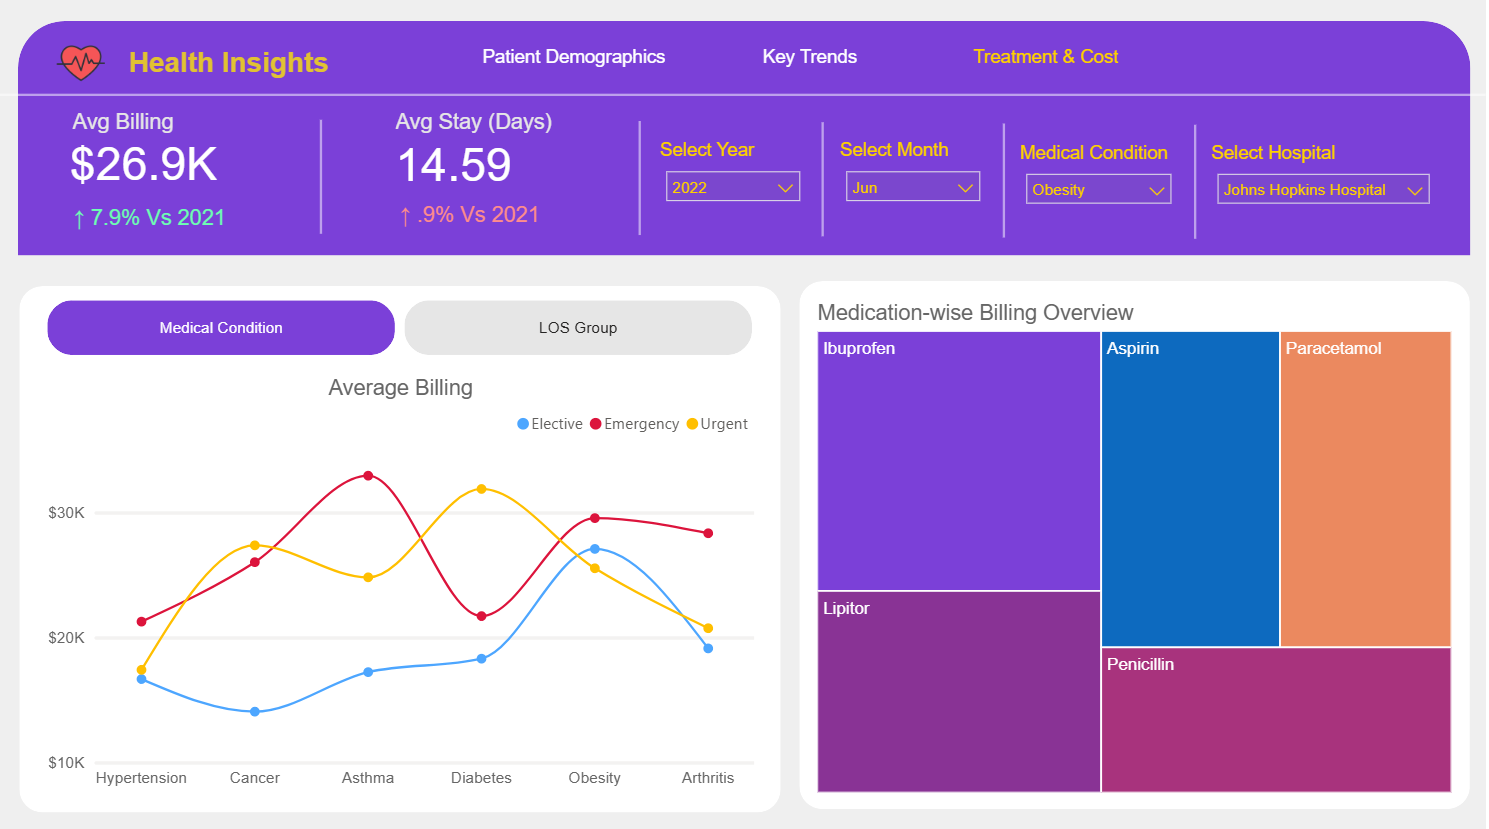

This screenshot's page, from the dashboard's own definition file:
{"tool":"powerbi","page":{"name":"Treatment & Cost","canvas":[1280,720],"ordinal":2},"visuals":[{"type":"shape","box":[17.3,21.6,1249.4,202],"z":0},{"type":"textbox","box":[107.8,37.8,201.8,40.4],"z":0,"group":"g2"},{"type":"shape","box":[26.3,91.8,239.5,121.2],"z":0,"group":"g5"},{"type":"group","id":"g1","title":"Group 4","box":[303.5,98.1,240,110.8],"z":0,"group":"g3"},{"type":"shape","box":[303.5,106.3,240,102.7],"z":0,"group":"g1"},{"type":"image","box":[38,31.7,67.3,51.4],"z":1000,"group":"g2"},{"type":"shape","box":[0,72.1,1279.7,26],"z":1000},{"type":"multiRowCard","title":"Avg Stay (Days)","fields":{"Values":["_Measure.Avg Length of Stay"]},"box":[342.5,98.1,171.7,76.5],"z":1000,"group":"g1"},{"type":"card","title":"Admitted Patients","fields":{"Values":["_Measure.Avg Billing"]},"box":[45.1,117.8,167.4,50.5],"z":1000,"group":"g5"},{"type":"group","id":"g2","title":"Group 1","box":[38,31.7,271.5,51.4],"z":2000},{"type":"multiRowCard","fields":{"Values":["_Measure.LOS YoY"]},"box":[341.6,173.2,187.6,31.8],"z":2000,"group":"g1"},{"type":"multiRowCard","fields":{"Values":["_Measure.Bill YoY"]},"box":[60.6,175.8,186.1,31.7],"z":2000,"group":"g5"},{"type":"slicer","title":"Select Year","fields":{"Values":["DimDate.Year"]},"box":[564.1,120.6,135.6,60.6],"z":3000},{"type":"slicer","title":"Select Month","fields":{"Values":["DimDate.Month Name"]},"box":[719.2,120.6,135.6,60.6],"z":4000},{"type":"slicer","title":"Medical Condition","fields":{"Values":["DimMedicalCondition.Medical Condition"]},"box":[874.3,122.3,145.5,59.9],"z":5000},{"type":"group","id":"g3","title":"Group 2","box":[303.5,98.1,240,110.8],"z":6000},{"type":"shape","box":[268.4,106.8,18,98.1],"z":7000},{"type":"shape","box":[542.5,107.8,18,98.1],"z":8000},{"type":"shape","box":[699.7,108.9,18.8,98.1],"z":9000},{"type":"shape","box":[855.6,110,18.8,98.1],"z":10000},{"type":"shape","box":[689.6,245.3,577.1,454.5],"z":11000},{"type":"group","id":"g4","title":"Group 3","box":[17.9,249.2,655,453],"z":12000},{"type":"shape","box":[17.9,249.2,655,453],"z":12000,"group":"g4"},{"type":"slicer","title":"Select Hospital","fields":{"Values":["HealthStatData.Hospital"]},"box":[1038.2,122.3,203,61.1],"z":13000},{"type":"shape","box":[1020,111.1,18.8,98.1],"z":14000},{"type":"group","id":"g5","title":"Group 5","box":[26.3,91.8,239.5,121.2],"z":15000},{"type":"lineChart","title":"Average Billing","fields":{"Category":["DimMedicalCondition.Medical Condition"],"Y":["_Measure.Avg Billing"],"Series":["HealthStatData.Admission Type"]},"box":[37.5,321.7,617.5,367.9],"z":16000},{"type":"advancedSlicerVisual","fields":{"Values":["Parameter.Parameter"]},"box":[37.5,256.8,617.5,57.7],"z":17000},{"type":"treemap","title":"Medication-wise Billing Overview","fields":{"Group":["HealthStatData.Medication"],"Values":["_Measure.Total Billing"]},"box":[699.7,256.8,555.5,432.8],"z":18000},{"type":"pageNavigator","box":[398.6,30.6,600.4,44],"z":19000},{"type":"textbox","box":[59.2,92.4,171.7,33],"z":19002,"group":"g5"}]}

Visuals, with their boxes in screenshot pixels (x1, y1, x2, y2), scaled from the page's 1280x720 canvas onto the 1489x829 screenshot:
shape: [left=20, top=25, right=1474, bottom=257]
textbox: [left=125, top=44, right=360, bottom=90]
shape: [left=31, top=106, right=309, bottom=245]
"Group 4" group: [left=353, top=113, right=632, bottom=241]
shape: [left=353, top=122, right=632, bottom=241]
image: [left=44, top=36, right=122, bottom=96]
shape: [left=0, top=83, right=1488, bottom=113]
"Avg Stay (Days)" multiRowCard: [left=398, top=113, right=598, bottom=201]
"Admitted Patients" card: [left=52, top=136, right=247, bottom=194]
"Group 1" group: [left=44, top=36, right=360, bottom=96]
multiRowCard - _Measure.LOS YoY: [left=397, top=199, right=616, bottom=236]
multiRowCard - _Measure.Bill YoY: [left=70, top=202, right=287, bottom=239]
"Select Year" slicer: [left=656, top=139, right=814, bottom=209]
"Select Month" slicer: [left=837, top=139, right=994, bottom=209]
"Medical Condition" slicer: [left=1017, top=141, right=1186, bottom=210]
"Group 2" group: [left=353, top=113, right=632, bottom=241]
shape: [left=312, top=123, right=333, bottom=236]
shape: [left=631, top=124, right=652, bottom=237]
shape: [left=814, top=125, right=836, bottom=238]
shape: [left=995, top=127, right=1017, bottom=240]
shape: [left=802, top=282, right=1474, bottom=806]
"Group 3" group: [left=21, top=287, right=783, bottom=809]
shape: [left=21, top=287, right=783, bottom=809]
"Select Hospital" slicer: [left=1208, top=141, right=1444, bottom=211]
shape: [left=1187, top=128, right=1208, bottom=241]
"Group 5" group: [left=31, top=106, right=309, bottom=245]
"Average Billing" lineChart: [left=44, top=370, right=762, bottom=794]
advancedSlicerVisual - Parameter.Parameter: [left=44, top=296, right=762, bottom=362]
"Medication-wise Billing Overview" treemap: [left=814, top=296, right=1460, bottom=794]
pageNavigator: [left=464, top=35, right=1162, bottom=86]
textbox: [left=69, top=106, right=269, bottom=144]
